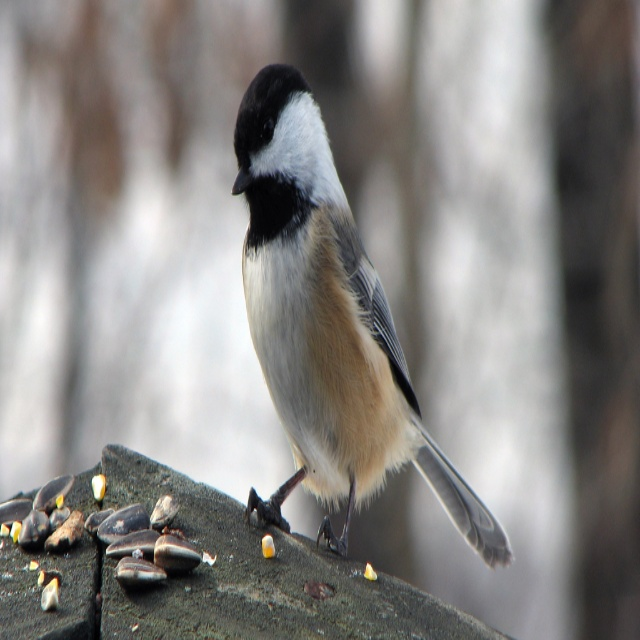Sparrow: (231, 62, 515, 572)
